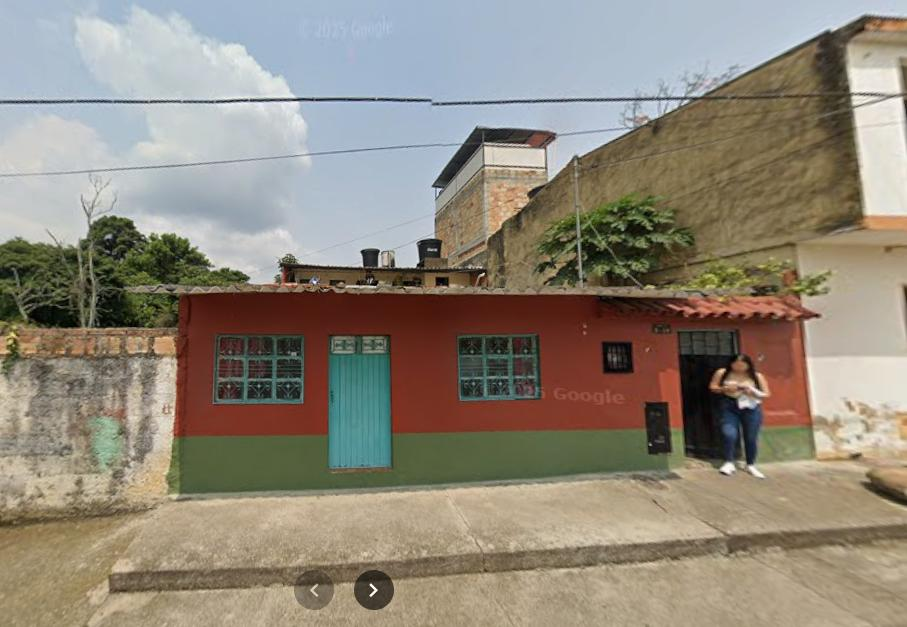casa: (163, 282, 818, 492)
